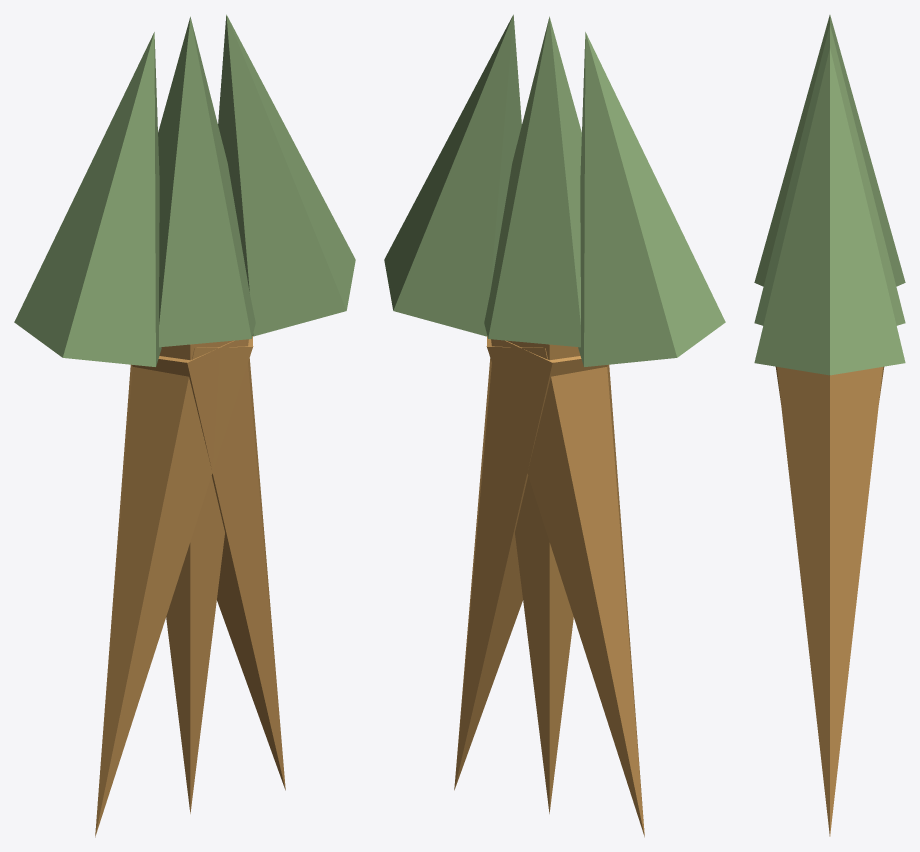
Rendered from carrot_bunch.glb.
The picture shows the model from 3 angles, left to right: view 1: azimuth 30°, elevation 25°; view 2: azimuth 150°, elevation 25°; view 3: azimuth 270°, elevation 25°; orthographic projection. The views are drawn at different scales.
Visible parts, largest first — view 1: carrot_bunch; view 2: carrot_bunch; view 3: carrot_bunch.
Part boxes in pixels (box(x1,y1,x2,y2)): carrot_bunch: box(14, 14, 355, 837); carrot_bunch: box(384, 14, 725, 837); carrot_bunch: box(754, 15, 905, 836).
Bounding box in the file's own units: 0.1331 × 0.32 × 0.0571.
